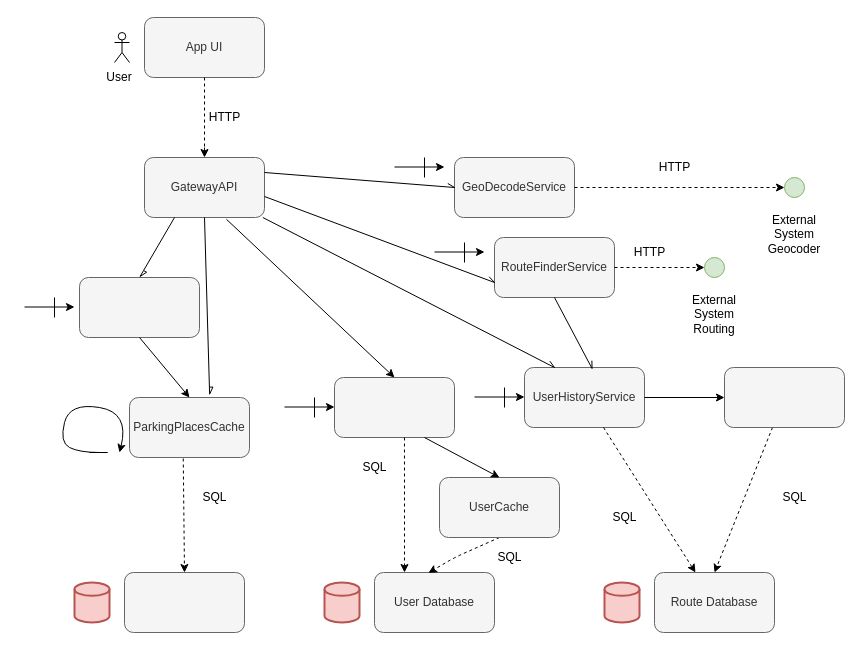
Image size: 862x650. Some labels were removed from this diagram. The centre of each missing label's shape, as x and y in pixels:
"Parking Database" belongs at [184,602].
"ParkingFilterService" belongs at [139,307].
"UserHistoryCache" belongs at [784,397].
"UserManagerService" belongs at [394,407].
